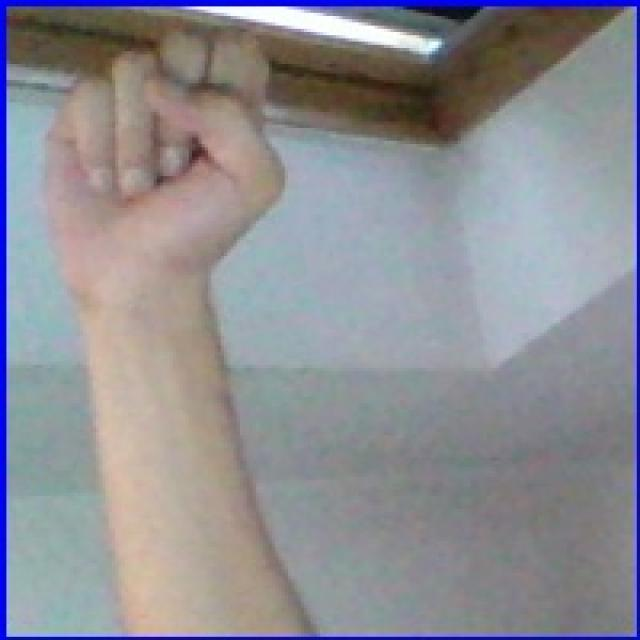Letra-S: (20, 18, 337, 326)
